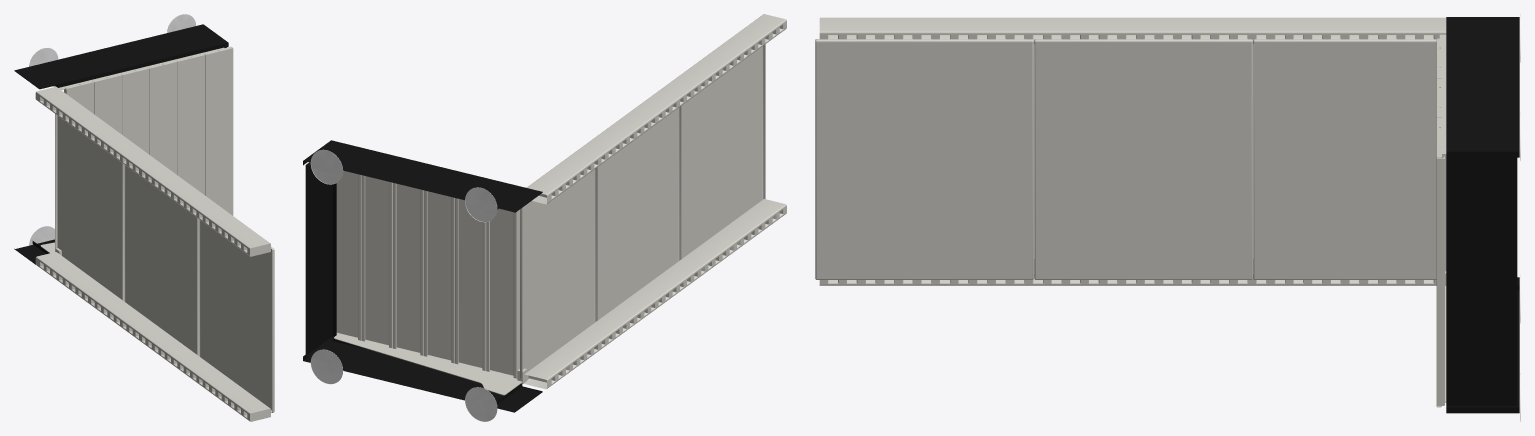
The model's file is ShelvesBase04.obj.
3 renders of one model, left to right at view 1: azimuth 30°, elevation 25°; view 2: azimuth 150°, elevation 25°; view 3: azimuth 270°, elevation 25°, orthographic. The views are drawn at different scales.
Parts seen in each view (by area): view 1: ShelvesBase04; view 2: ShelvesBase04; view 3: ShelvesBase04.
Part boxes in pixels (x1,y1,x2,y2): ShelvesBase04: (14,14,274,421); ShelvesBase04: (303,14,786,421); ShelvesBase04: (815,14,1520,421).
Bounding box in the file's own units: 0.7377 × 0.7576 × 1.59.
